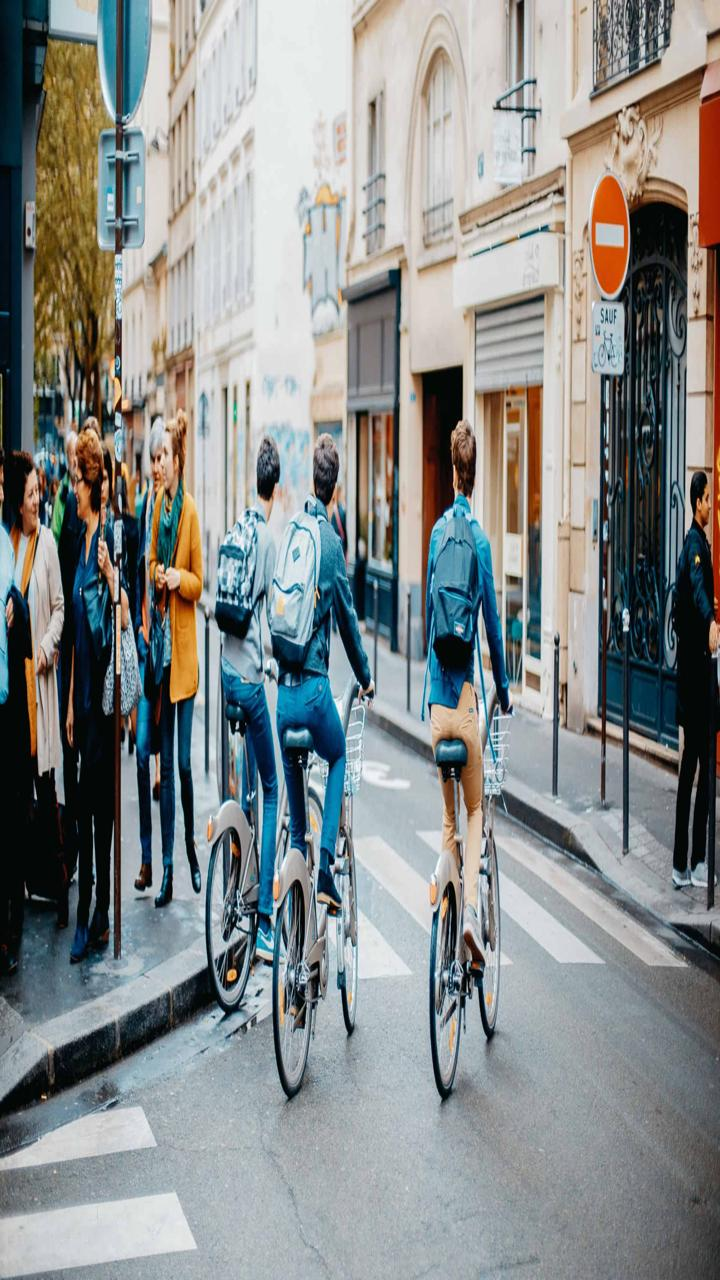bicycle: (252, 689, 395, 1103), (402, 721, 540, 1085), (201, 703, 280, 1056)
cyclist: (416, 408, 511, 989), (290, 431, 371, 973), (220, 411, 301, 953), (71, 421, 136, 964), (138, 388, 206, 905), (1, 437, 68, 954)
